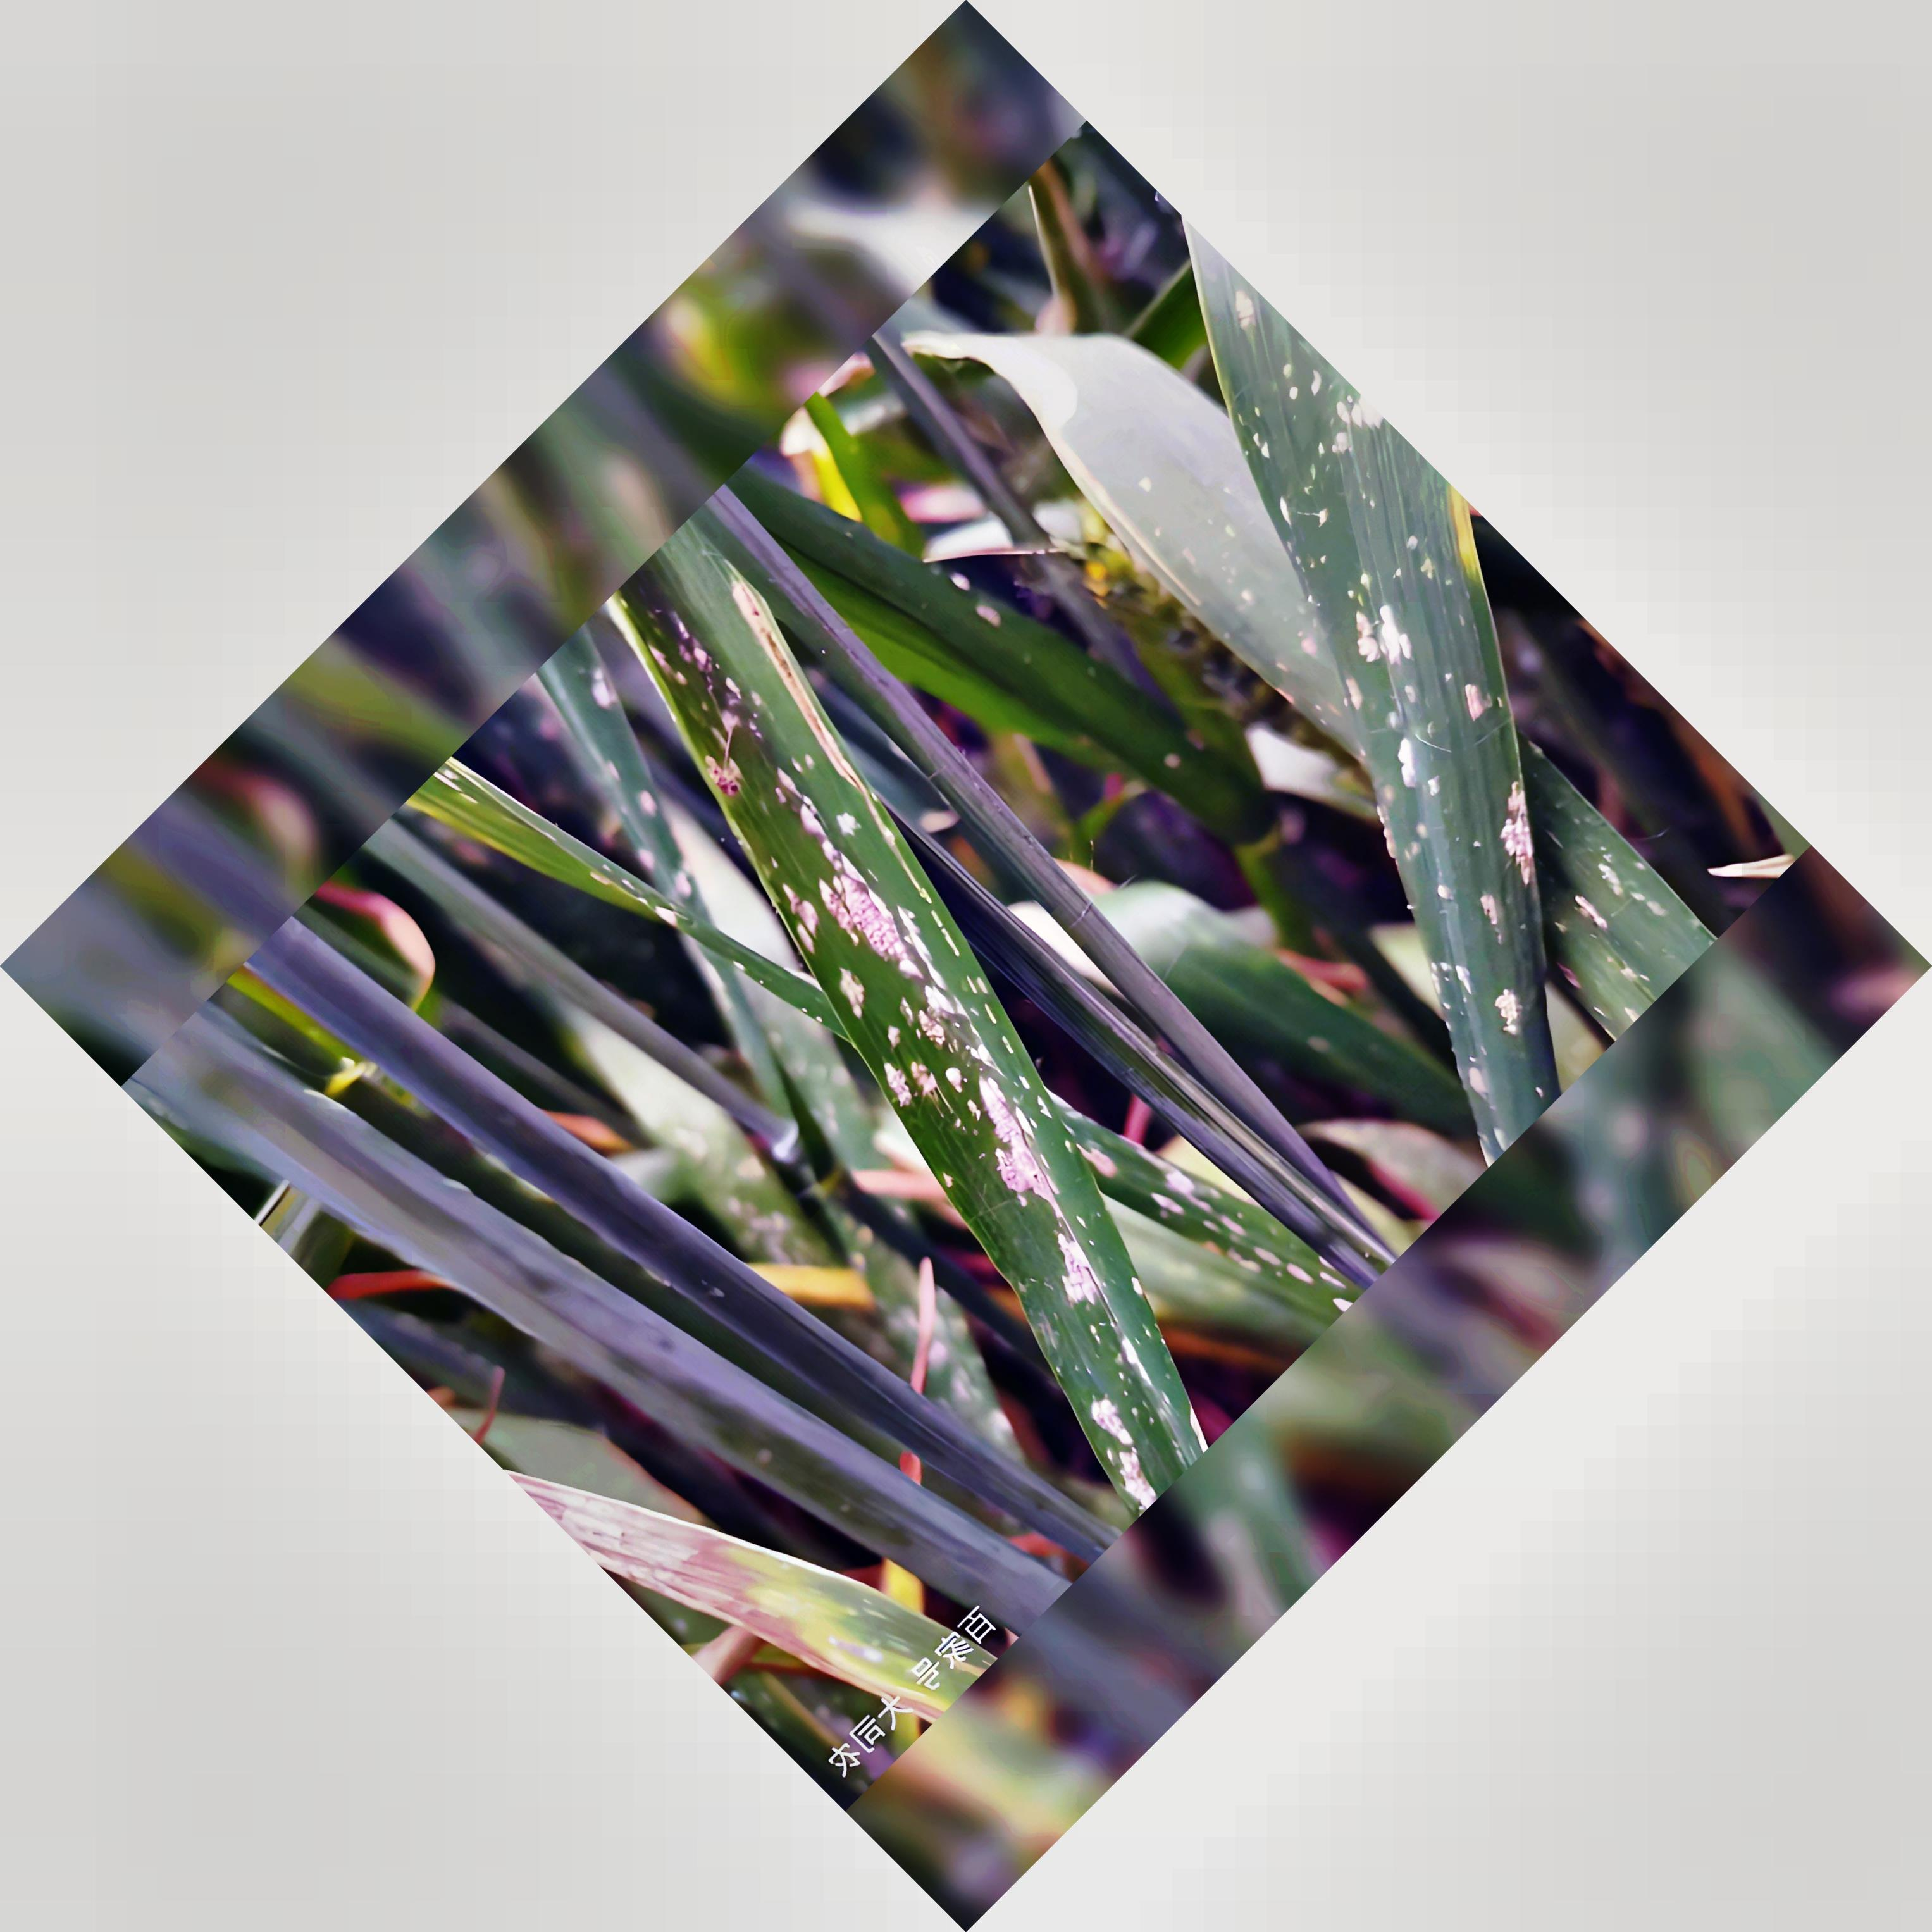Powdery Mildew: (679, 662, 1200, 1449)
